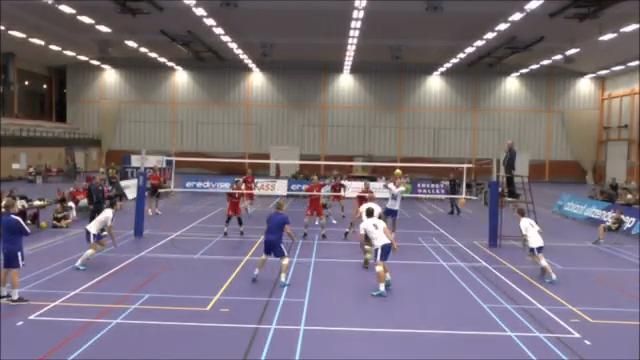alzata: (377, 165, 410, 238)
